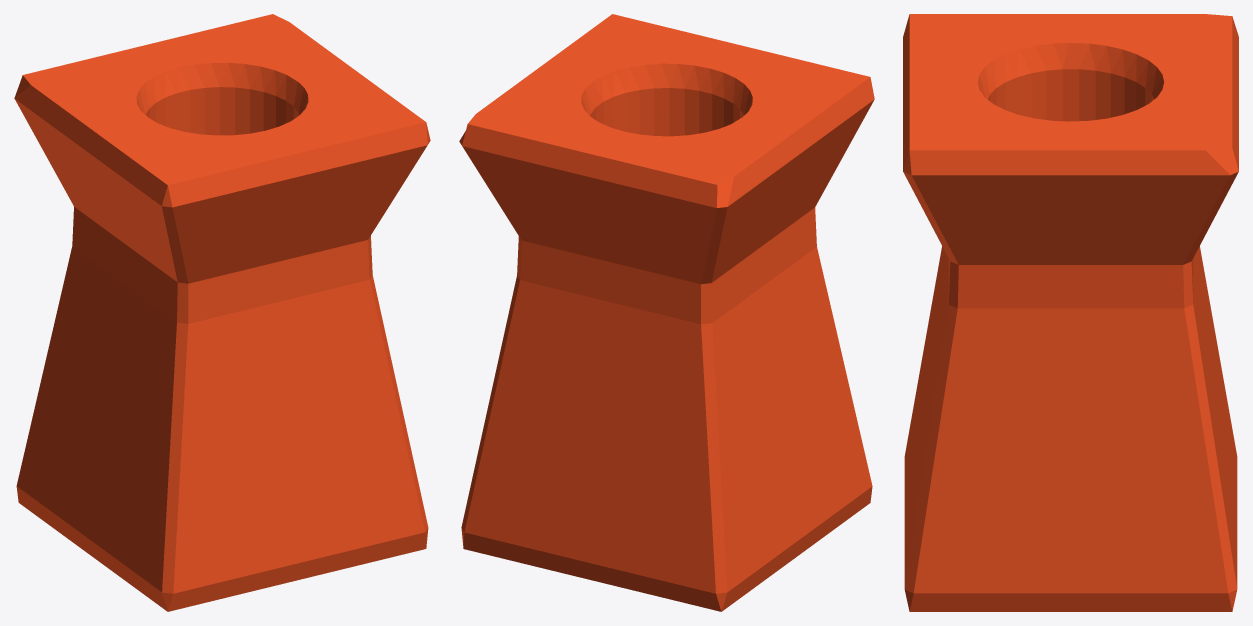
Rendered from token_quad_hole_small.fbx.
The picture shows the model from 3 angles, left to right: view 1: azimuth 30°, elevation 25°; view 2: azimuth 150°, elevation 25°; view 3: azimuth 270°, elevation 25°; orthographic projection. The views are drawn at different scales.
Parts seen in each view (by area): view 1: token_quad_hole_small_1; view 2: token_quad_hole_small_1; view 3: token_quad_hole_small_1.
Part boxes in pixels (bbox=[...]): token_quad_hole_small_1: bbox=[14, 14, 430, 611]; token_quad_hole_small_1: bbox=[459, 14, 874, 611]; token_quad_hole_small_1: bbox=[903, 14, 1238, 611].
Size of the model in its own units: 198 by 300 by 198.
